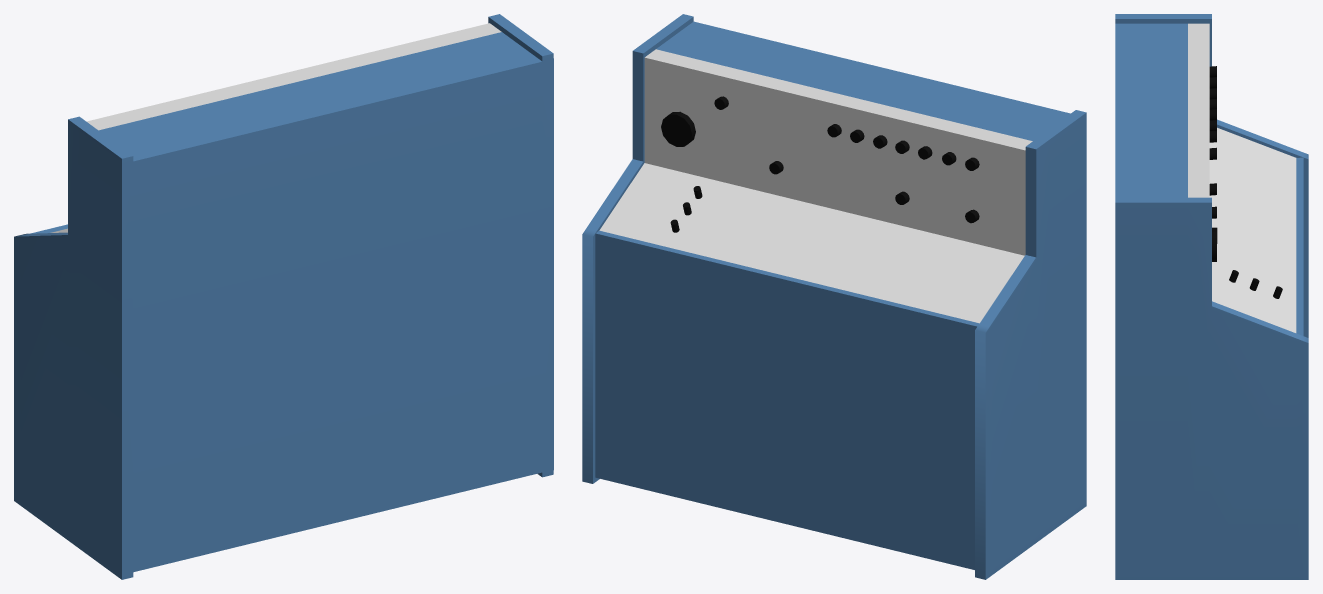
3 views of the same model, side by side, from view 1: azimuth 30°, elevation 25°; view 2: azimuth 150°, elevation 25°; view 3: azimuth 270°, elevation 25° (orthographic). The views are drawn at different scales.
Parts seen in each view (by area): view 1: Cube; view 2: Cube; view 3: Cube.
Boxes of the visible parts, x1,y1,x2,y2 form: Cube: (14,14,553,579); Cube: (582,14,1086,579); Cube: (1115,14,1308,579).
Size of the model in its own units: 30.8 by 28.7 by 13.33.
